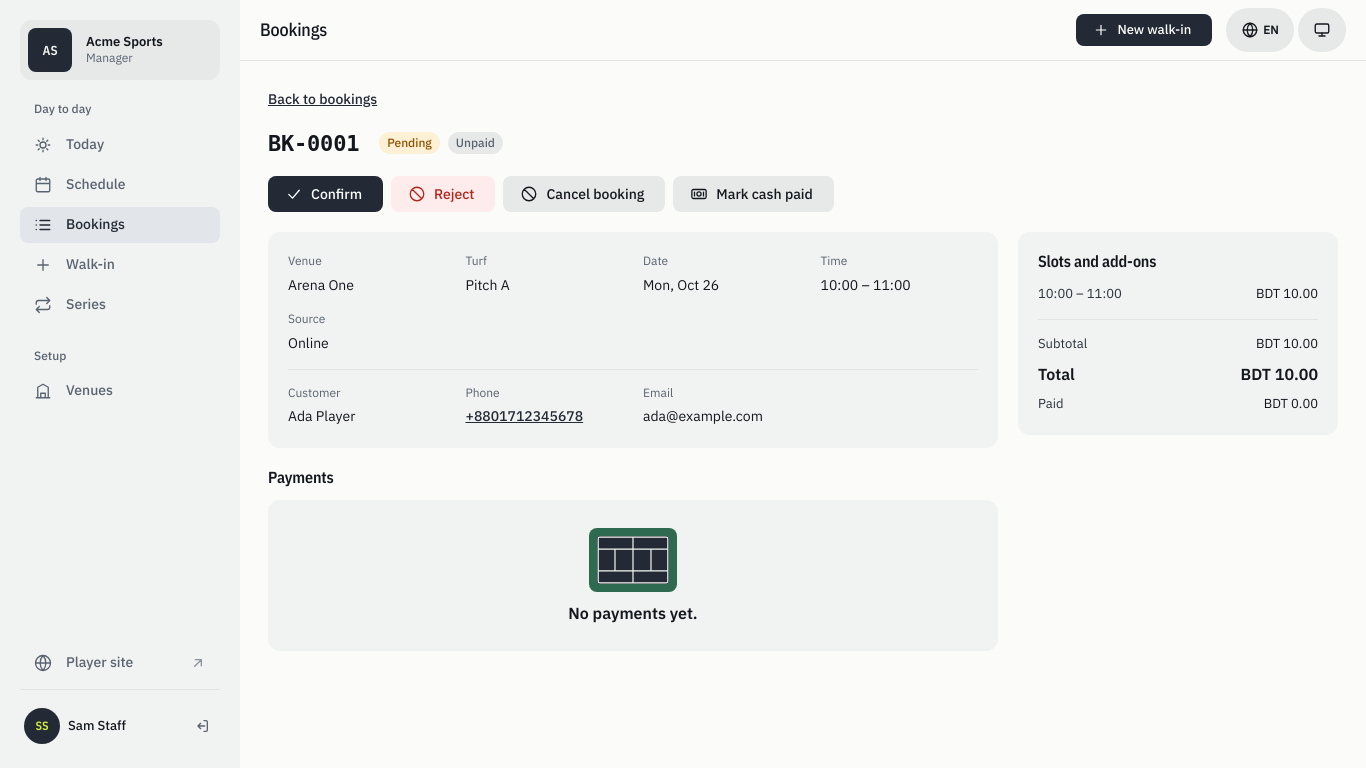
Test case: owner booking detail › a 409 on confirm shows the error and reloads the booking
Click the button "Confirm". click: (326, 194)
box: [268,176,383,212]
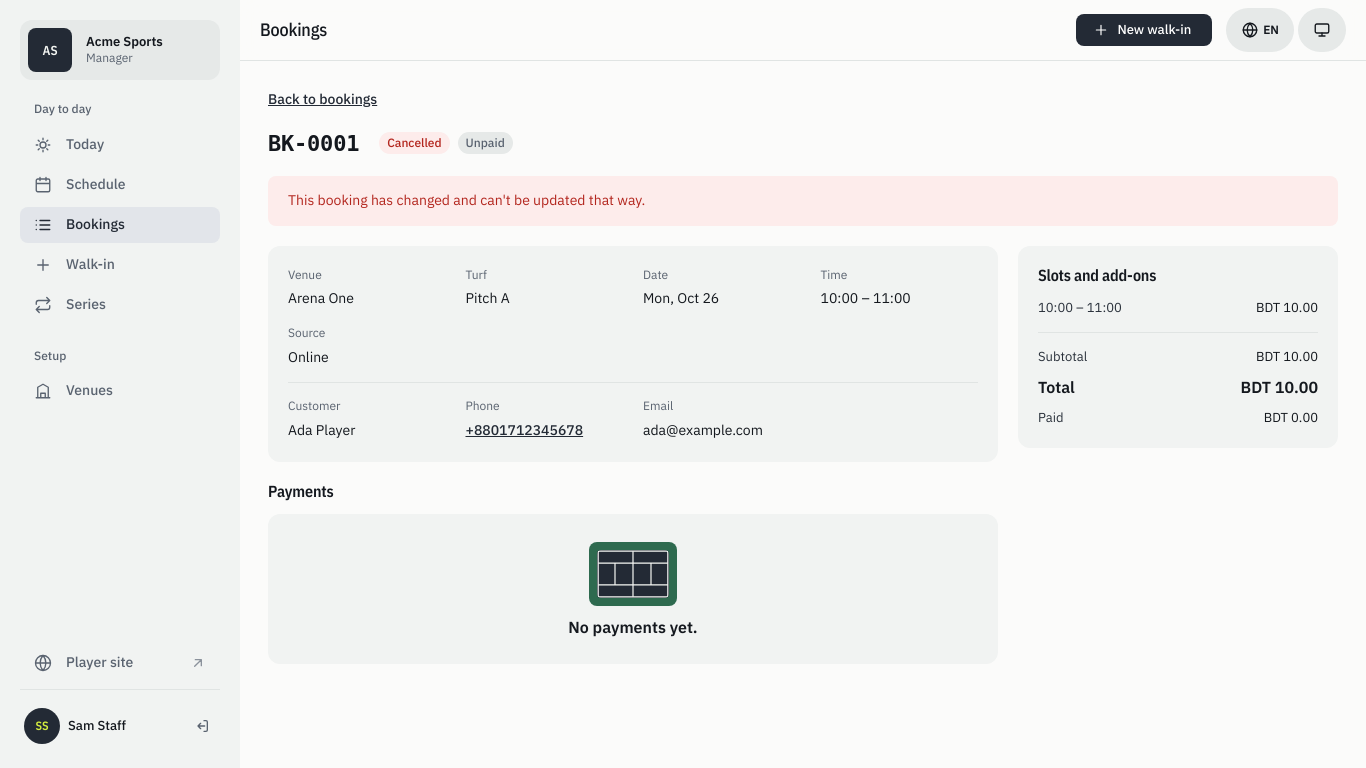
Result: the message reads "This booking has changed and can't be updated that way." at [288,191,645,209]
Result: the text "Cancelled" is shown at [379,132,450,154]
